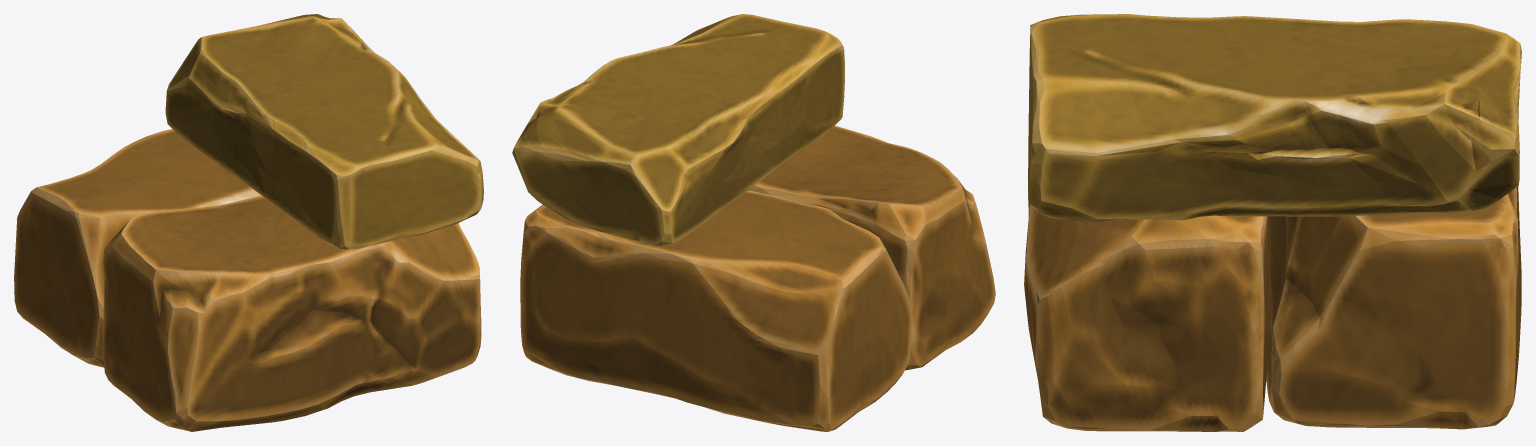
The model's file is Wall_normal_first.fbx.
3 views of the same model, side by side, from view 1: azimuth 30°, elevation 25°; view 2: azimuth 150°, elevation 25°; view 3: azimuth 270°, elevation 25° (orthographic). The views are drawn at different scales.
Parts seen in each view (by area): view 1: Wall_Normal_First001; view 2: Wall_Normal_First001; view 3: Wall_Normal_First001.
Boxes of the visible parts, <box> form: Wall_Normal_First001: <box>14,14,483,431</box>; Wall_Normal_First001: <box>512,14,995,431</box>; Wall_Normal_First001: <box>1024,14,1521,431</box>.
Bounding box in the file's own units: 200 × 154 × 201.
